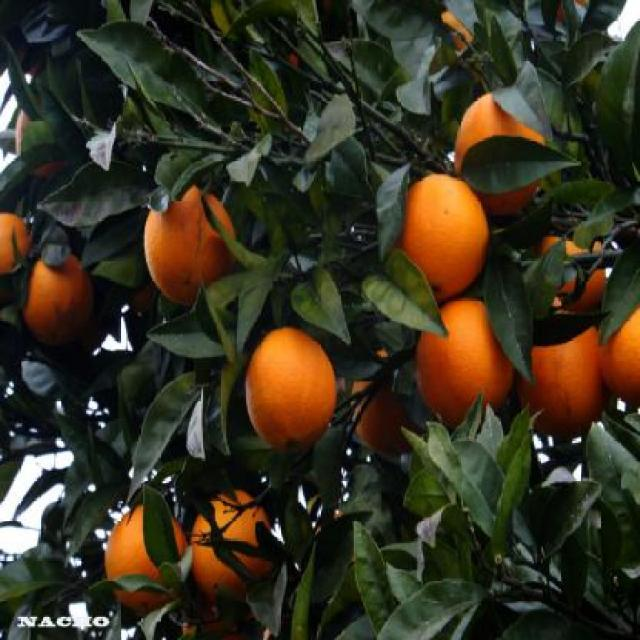Orange: (140, 184, 237, 308), (394, 170, 491, 294), (418, 302, 518, 414), (454, 86, 548, 197), (104, 487, 185, 610), (247, 336, 336, 441), (192, 488, 263, 610), (525, 326, 607, 410), (23, 242, 83, 330), (609, 315, 640, 407), (0, 203, 28, 274), (438, 10, 476, 50)
